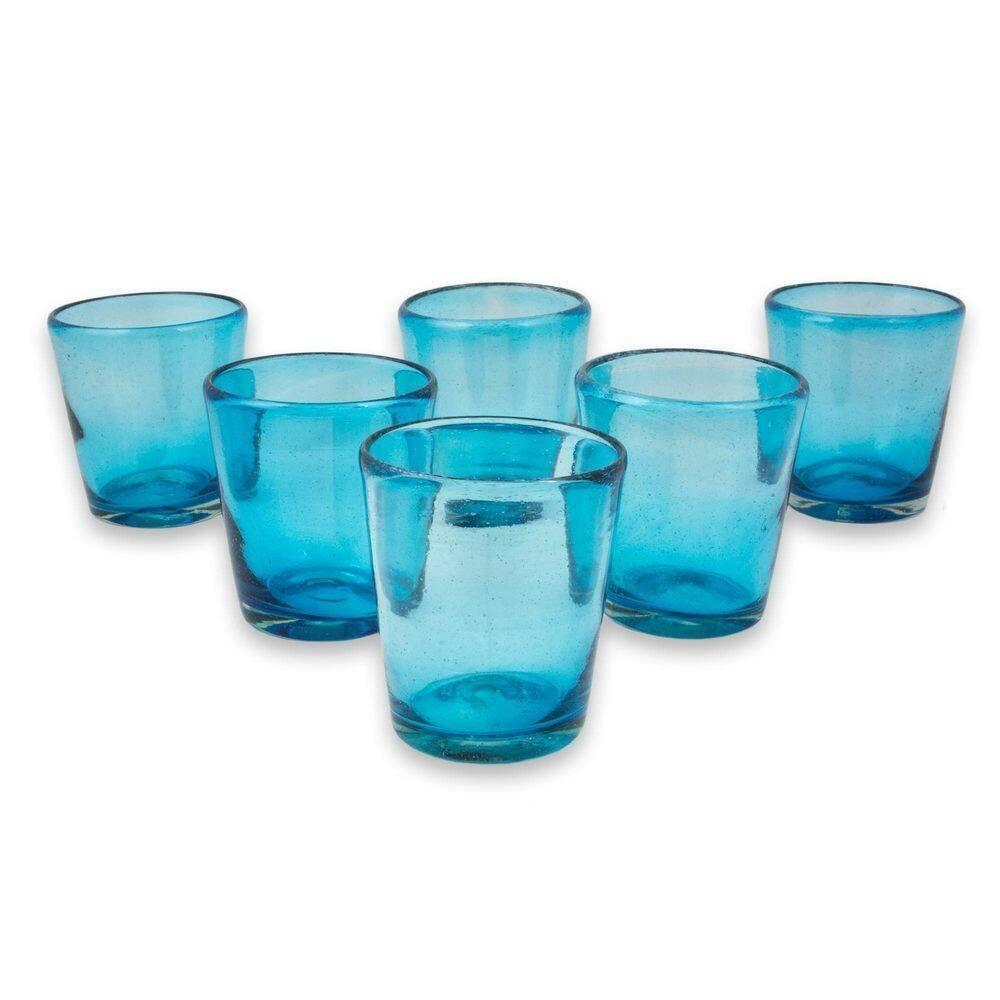glass-normal: (357, 412, 628, 768), (574, 344, 811, 643), (202, 348, 437, 644), (761, 271, 968, 526), (43, 285, 247, 528), (395, 273, 592, 424)
